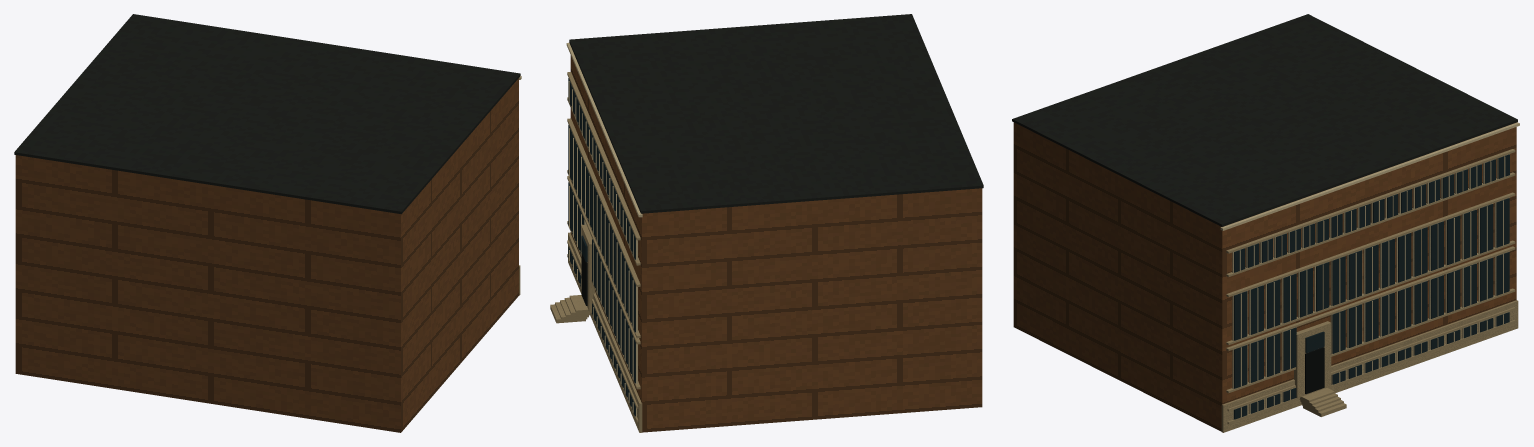
The picture shows the model from 3 angles, left to right: view 1: azimuth 30°, elevation 25°; view 2: azimuth 150°, elevation 25°; view 3: azimuth 270°, elevation 25°; orthographic projection. The views are drawn at different scales.
Visible parts, largest first — view 1: botersloot-spaarbank-0, botersloot-spaarbank-1; view 2: botersloot-spaarbank-0, botersloot-spaarbank-1, botersloot-spaarbank-4, botersloot-spaarbank-2, botersloot-spaarbank-3; view 3: botersloot-spaarbank-0, botersloot-spaarbank-1, botersloot-spaarbank-4, botersloot-spaarbank-2, botersloot-spaarbank-3, botersloot-spaarbank-5.
Part boxes in pixels (x1,y1,x2,y2): botersloot-spaarbank-0: [15, 78, 518, 432]; botersloot-spaarbank-1: [14, 14, 520, 214]; botersloot-spaarbank-0: [570, 55, 982, 432]; botersloot-spaarbank-1: [569, 14, 983, 213]; botersloot-spaarbank-4: [568, 78, 635, 416]; botersloot-spaarbank-2: [550, 72, 642, 432]; botersloot-spaarbank-3: [566, 42, 642, 416]; botersloot-spaarbank-0: [1013, 122, 1516, 431]; botersloot-spaarbank-1: [1012, 14, 1517, 226]; botersloot-spaarbank-4: [1234, 154, 1509, 419]; botersloot-spaarbank-2: [1221, 149, 1518, 432]; botersloot-spaarbank-3: [1220, 122, 1519, 419]; botersloot-spaarbank-5: [1305, 347, 1324, 393].
Size of the model in its own units: 46.31 by 21.24 by 46.98.
Materials: 6 (6 with a texture image).
